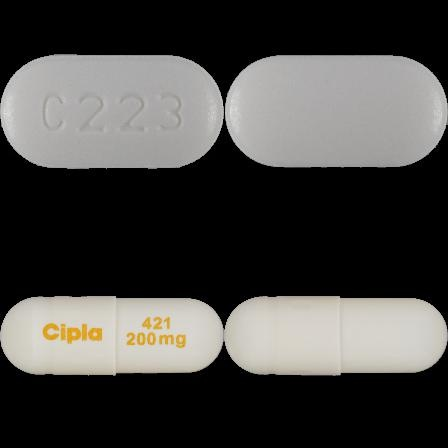69097-223: (0, 0, 224, 224)
